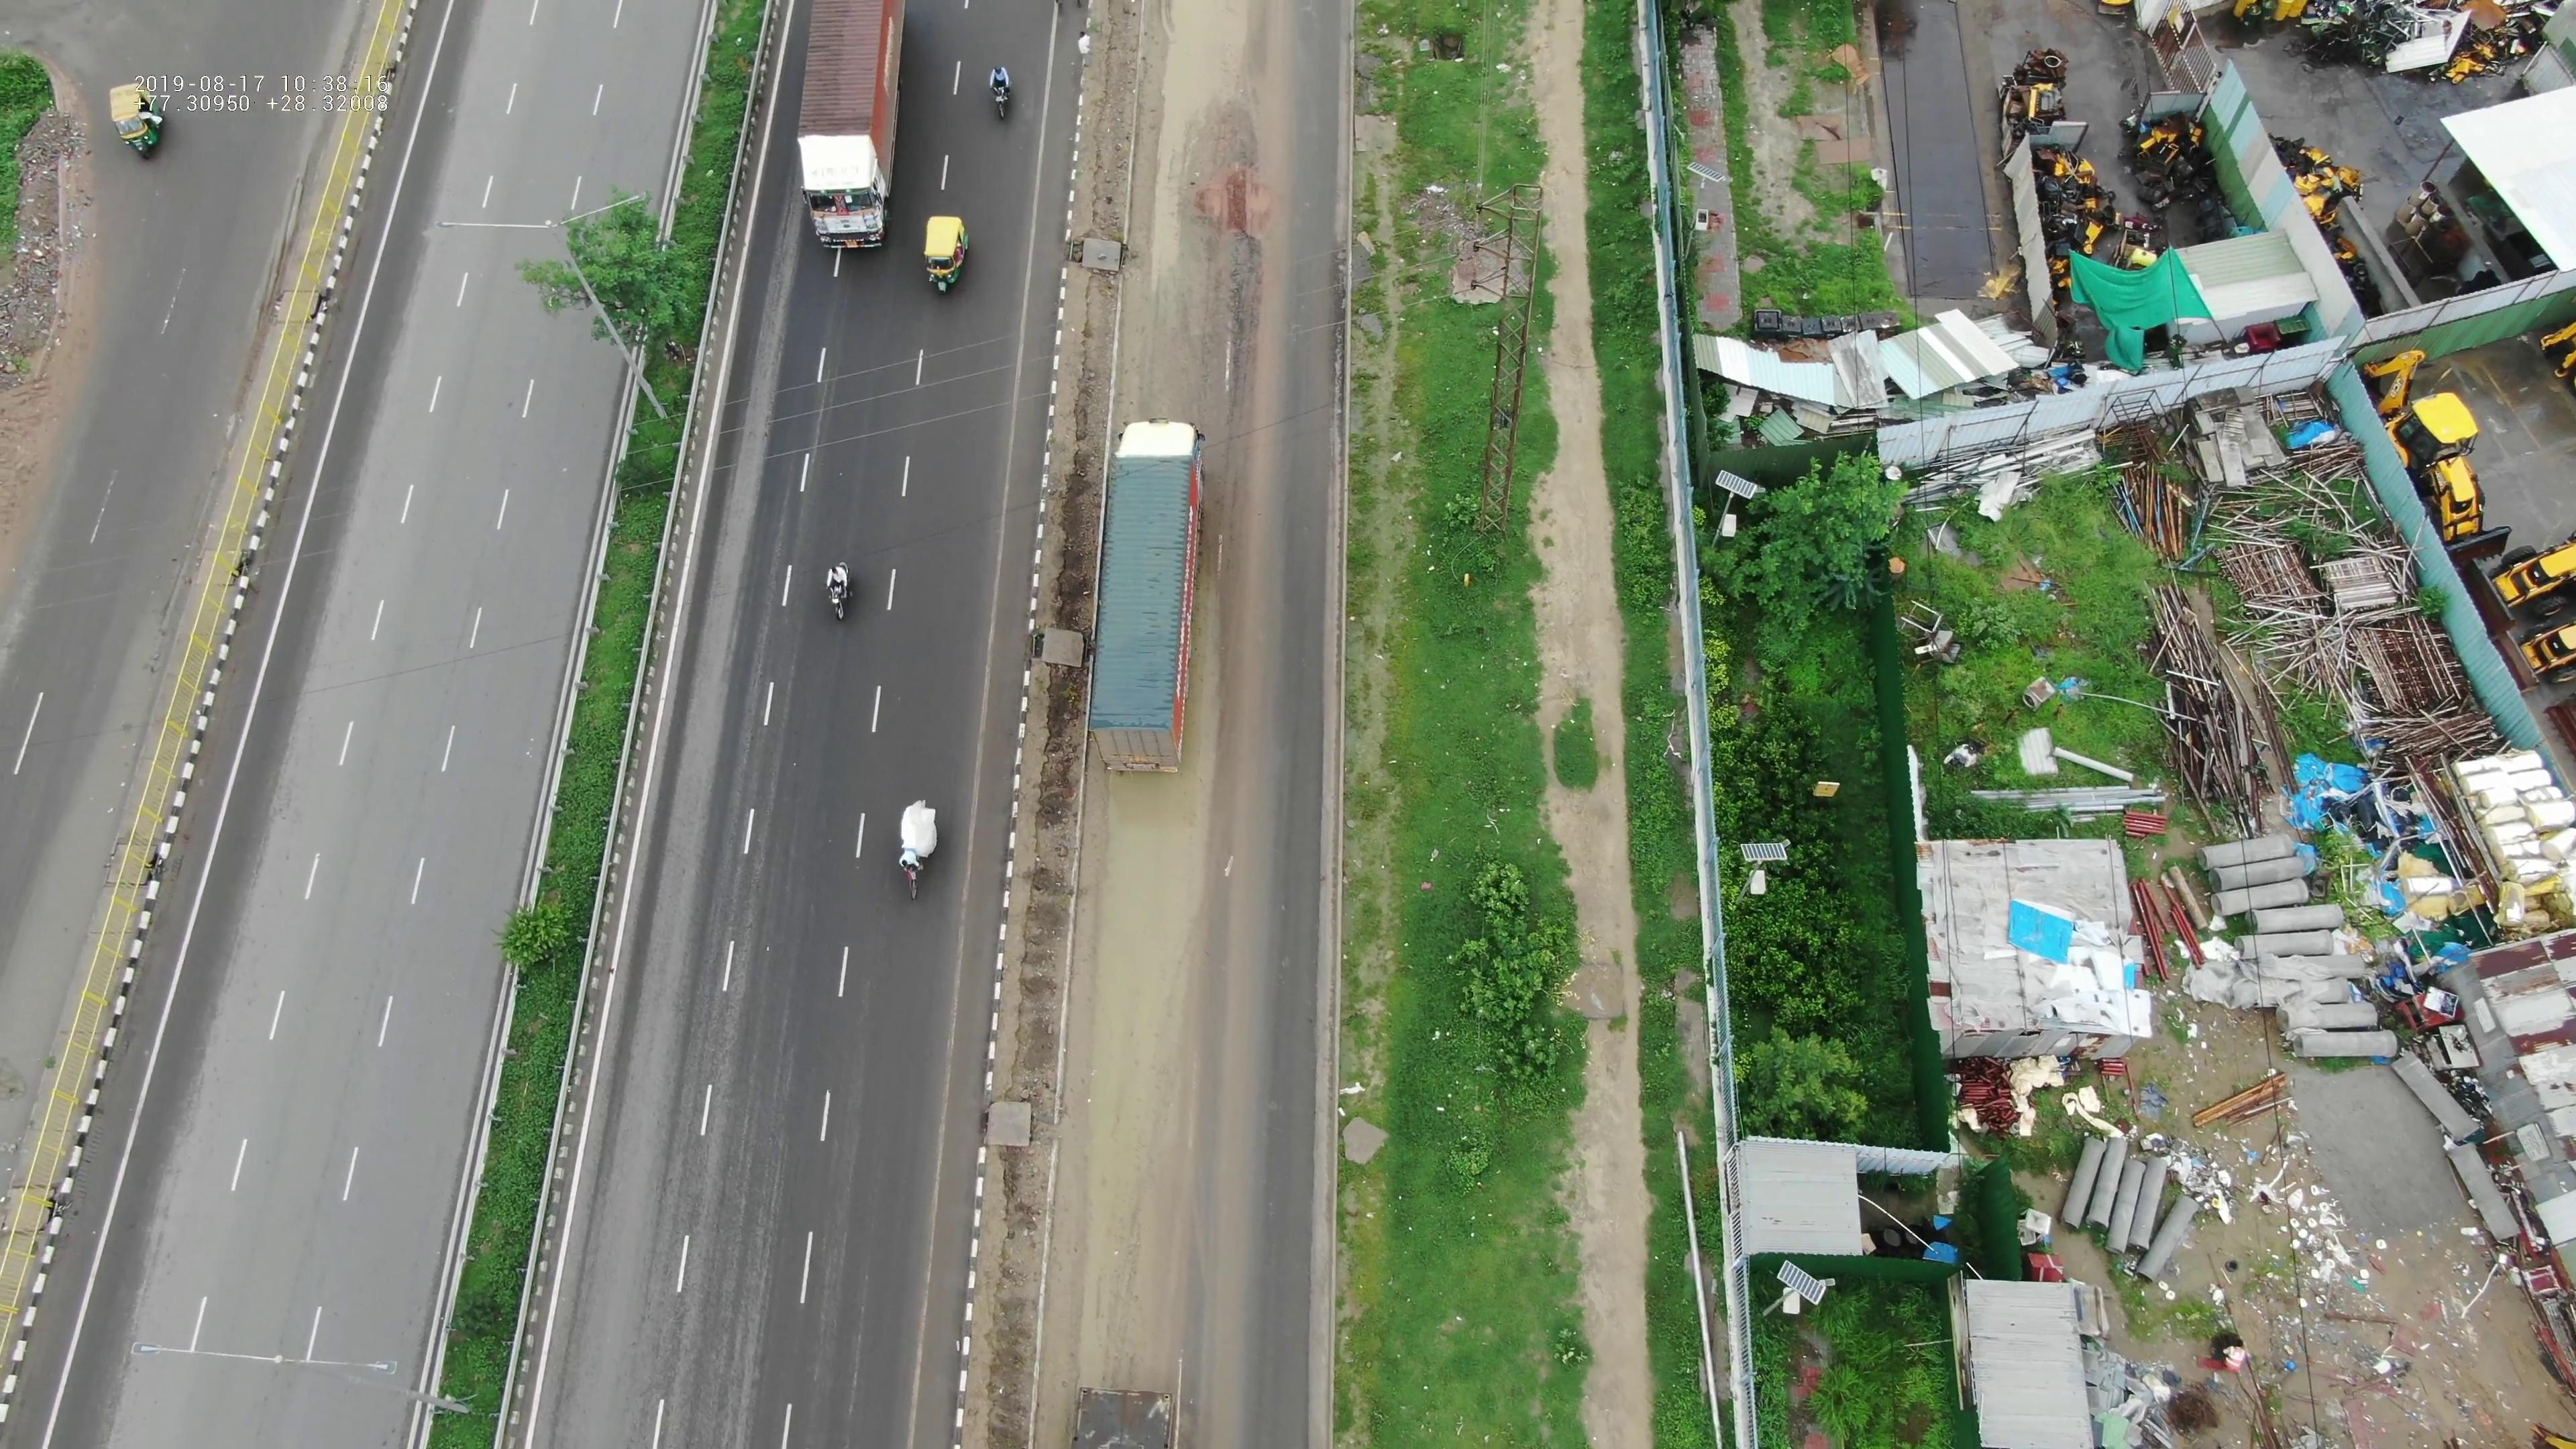Muddy_road: (1108, 51, 1260, 384), (1074, 978, 1191, 1369)
